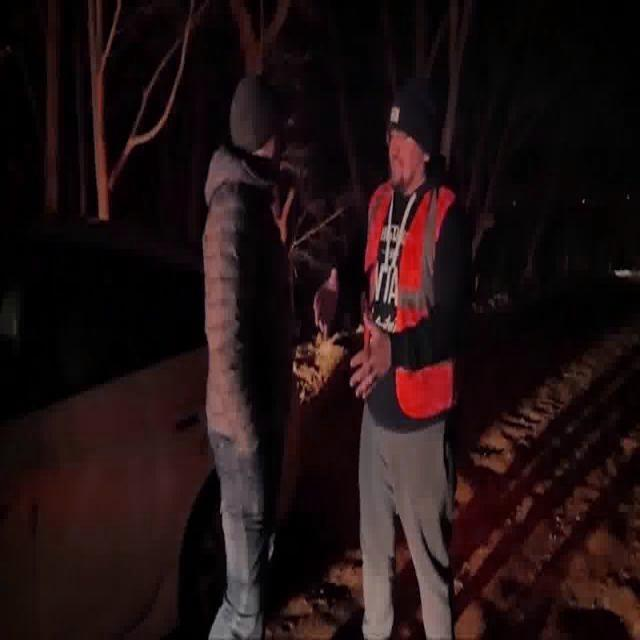vest: (365, 177, 455, 425)
